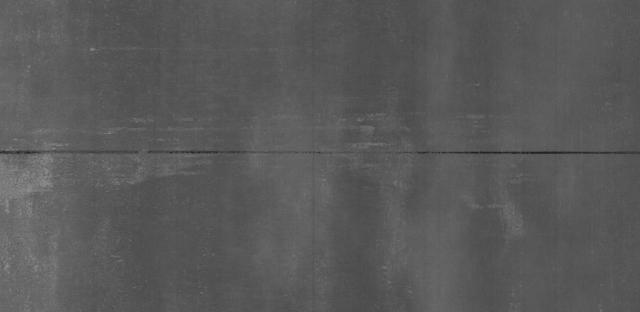crease: (0, 128, 635, 172)
